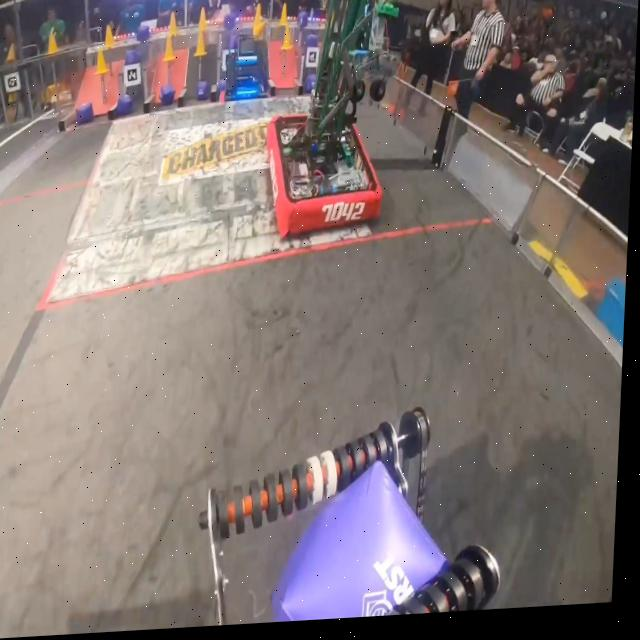robot: (265, 0, 394, 242), (221, 34, 272, 107)
